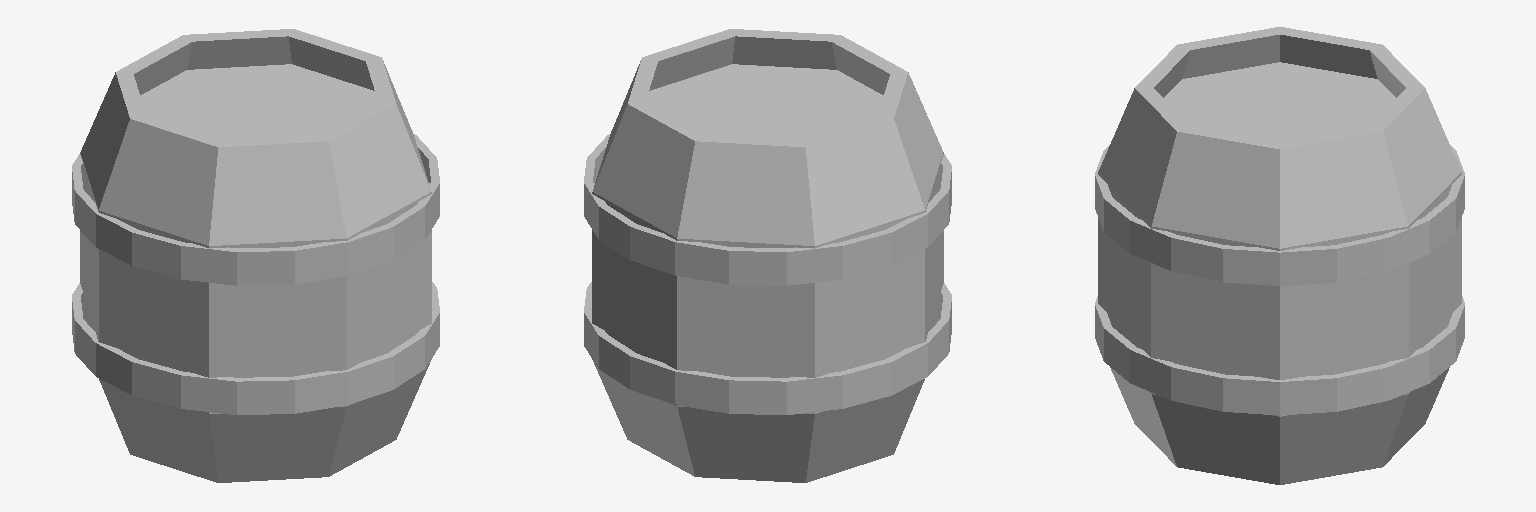
File: Barrel.obj
3 views of the same model, side by side, from view 1: azimuth 30°, elevation 25°; view 2: azimuth 150°, elevation 25°; view 3: azimuth 270°, elevation 25° (orthographic).
Parts seen in each view (by area): view 1: Cylinder, Cylinder.001; view 2: Cylinder, Cylinder.001; view 3: Cylinder, Cylinder.001.
Part boxes in pixels (bbox=[...]): Cylinder: bbox=[80, 29, 431, 482]; Cylinder.001: bbox=[72, 134, 439, 414]; Cylinder: bbox=[592, 29, 943, 482]; Cylinder.001: bbox=[584, 134, 951, 414]; Cylinder: bbox=[1098, 27, 1461, 484]; Cylinder.001: bbox=[1095, 145, 1464, 415].
Bounding box in the file's own units: 1 × 1 × 1.